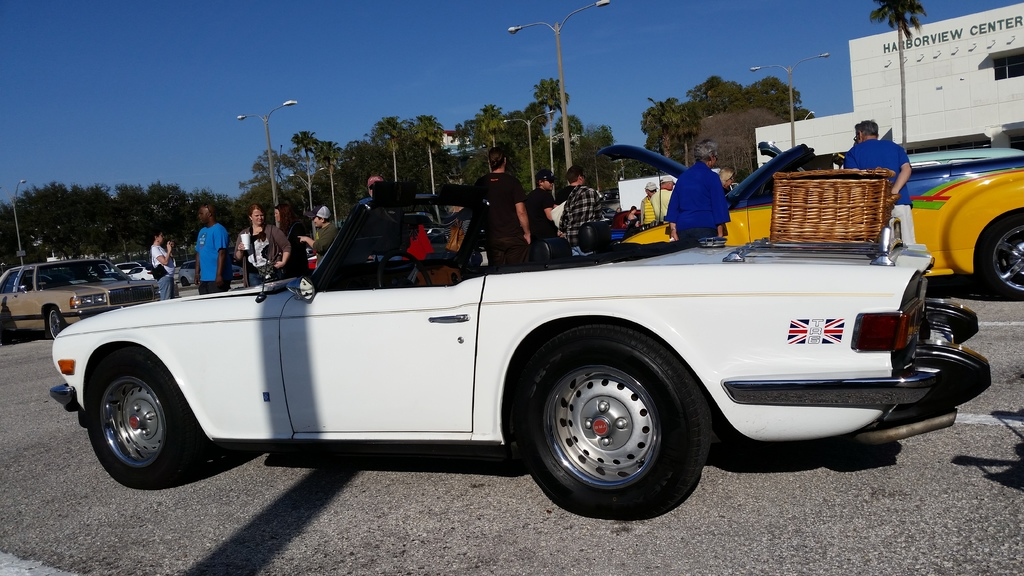car: (34, 113, 1005, 533), (1, 232, 162, 341)
